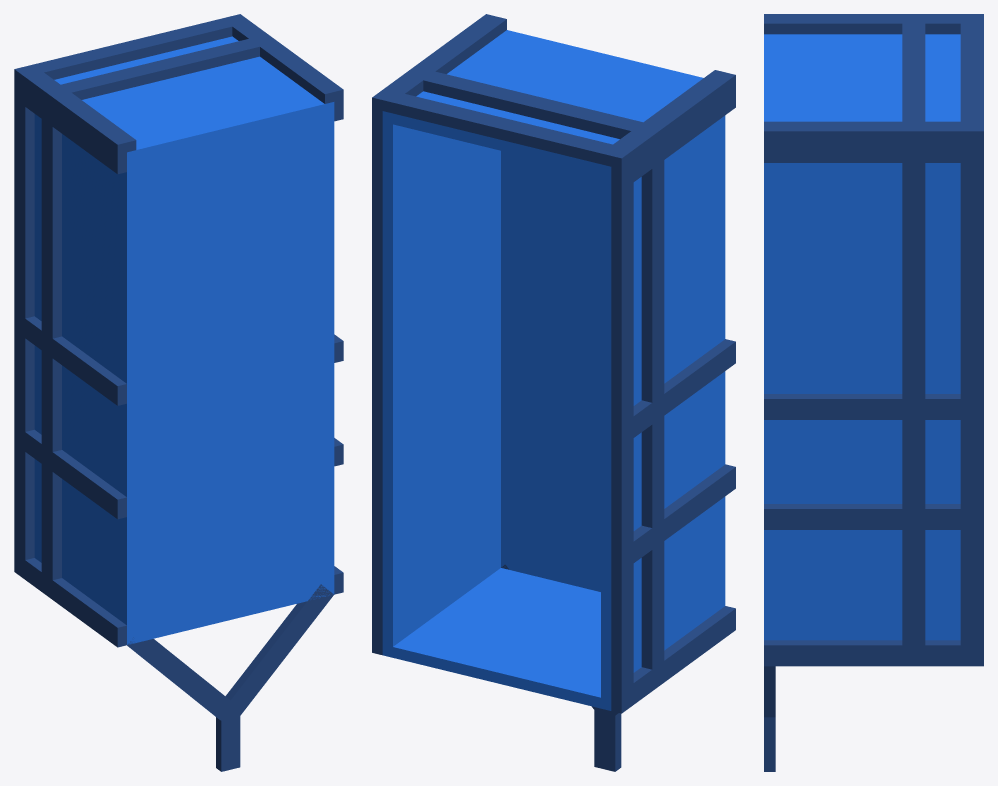
File: Trailer.obj
The picture shows the model from 3 angles, left to right: view 1: azimuth 30°, elevation 25°; view 2: azimuth 150°, elevation 25°; view 3: azimuth 270°, elevation 25°; orthographic projection. The views are drawn at different scales.
Visible parts, largest first — view 1: Trailer; view 2: Trailer; view 3: Trailer.
Boxes of the visible parts, <box> form: Trailer: <box>14,14,343,771</box>; Trailer: <box>372,14,735,771</box>; Trailer: <box>764,14,983,771</box>.
Bounding box in the file's own units: 1.2 × 3.31 × 0.95.
